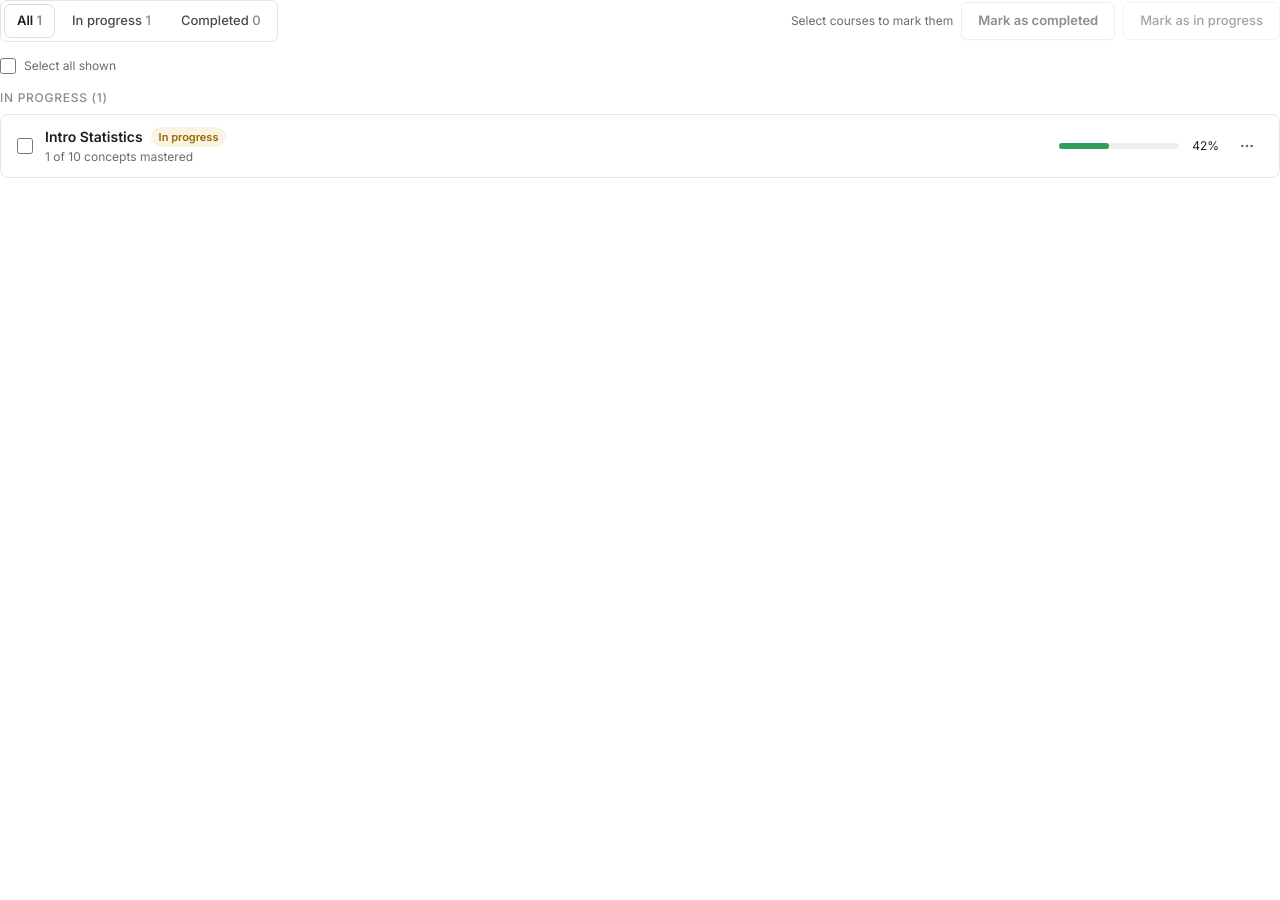
deleting a course › does nothing when cancelled
This screenshot has width=1280, height=900.
Click the button named "Actions for Intro Statistics": (1247, 146) 1231,130 -> 1263,162
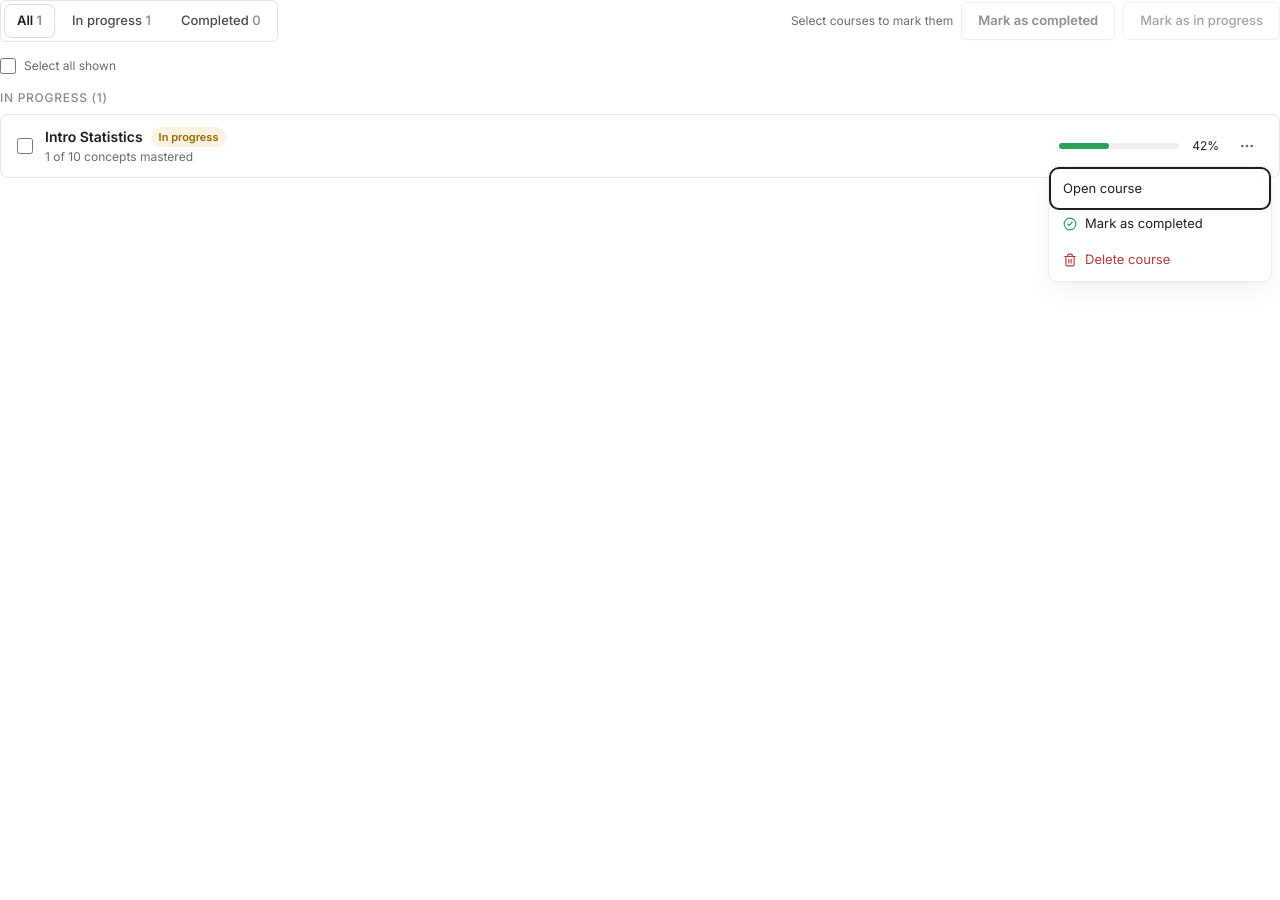
Click the menu item "Delete course": (1160, 260) 1053,242 -> 1267,277
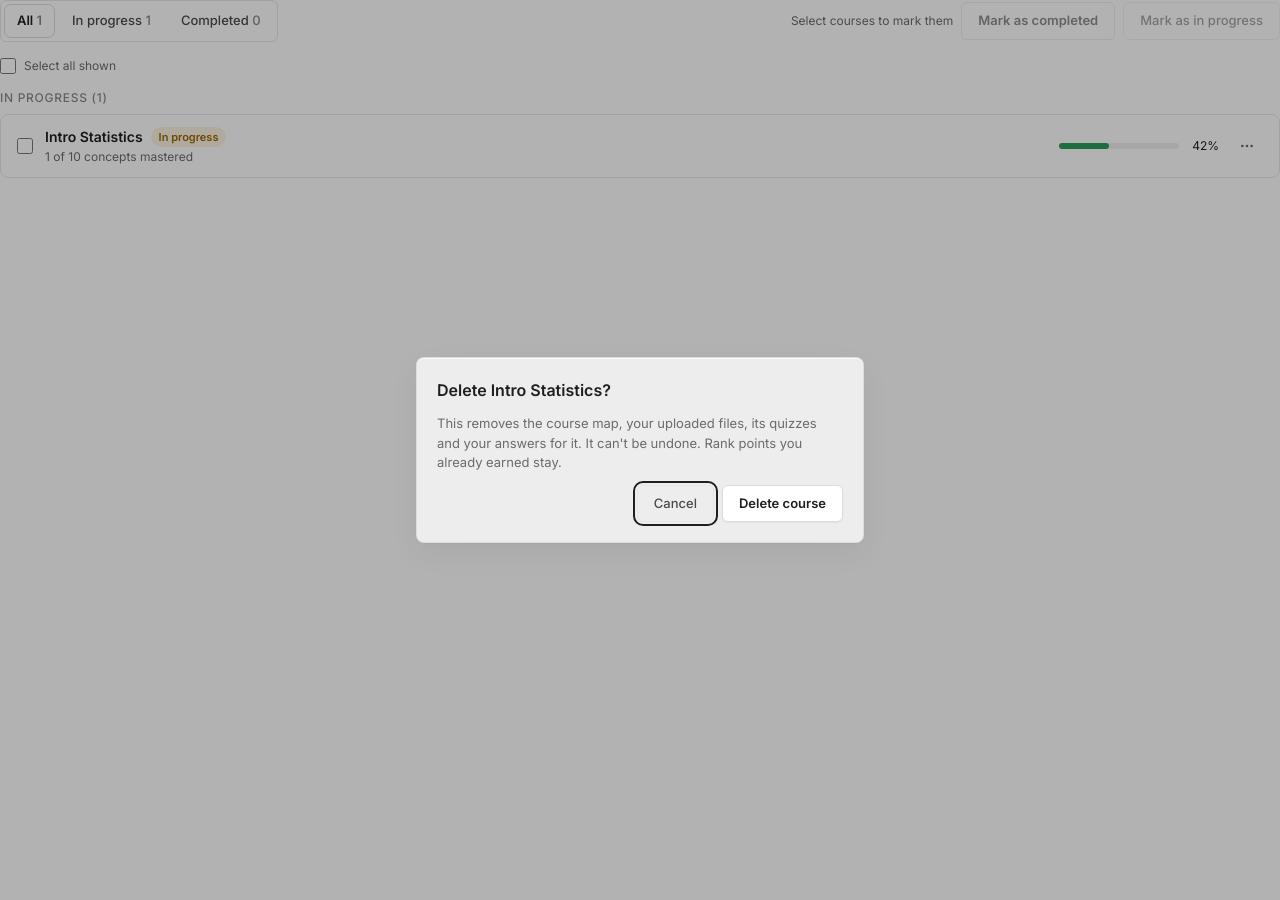
Click the button "Cancel": (675, 503) 637,484 -> 714,522
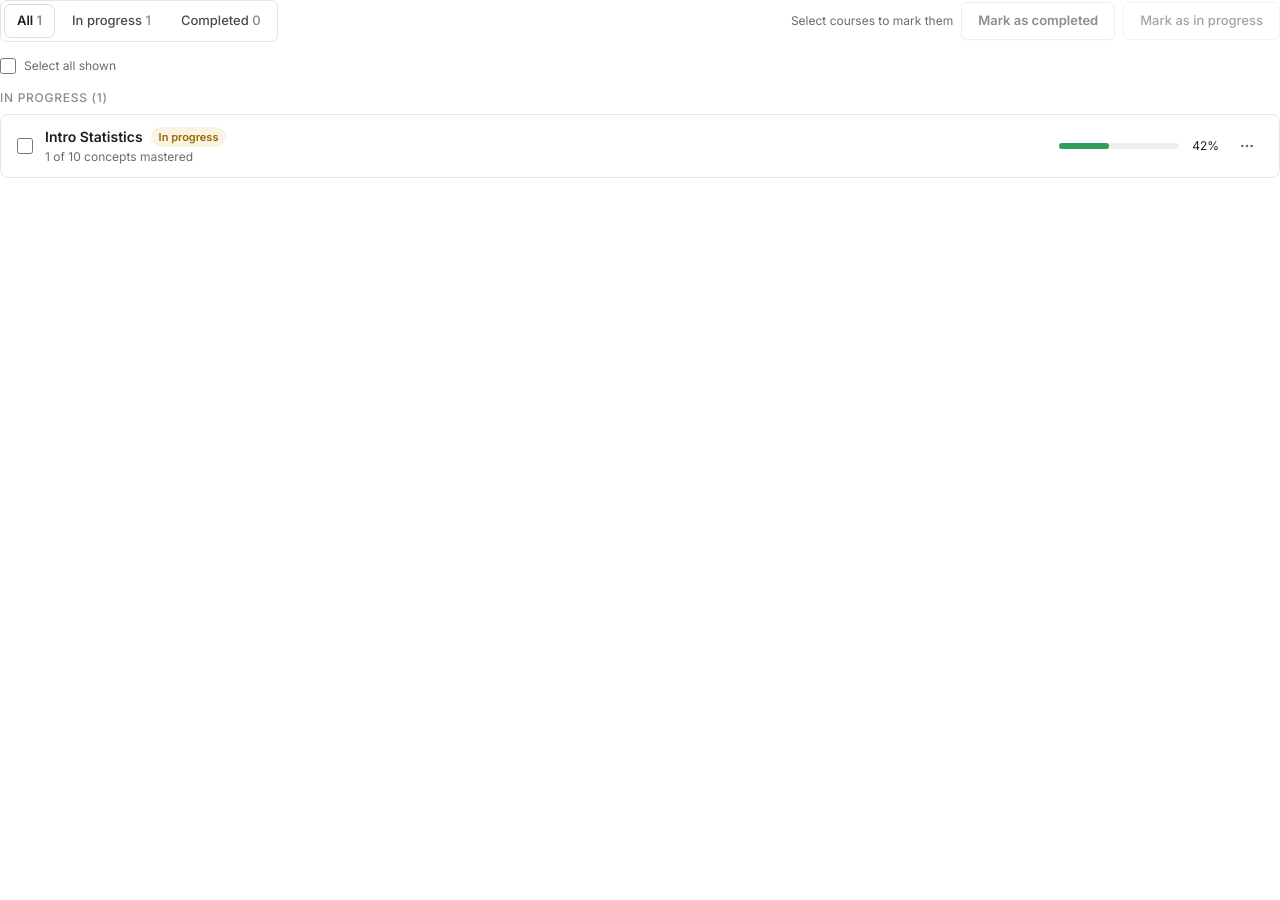
expect the dialog is gone: met
